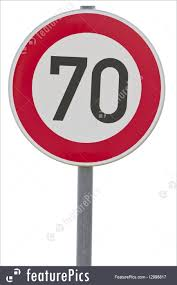Speed_limit_70km: (10, 9, 165, 166)
